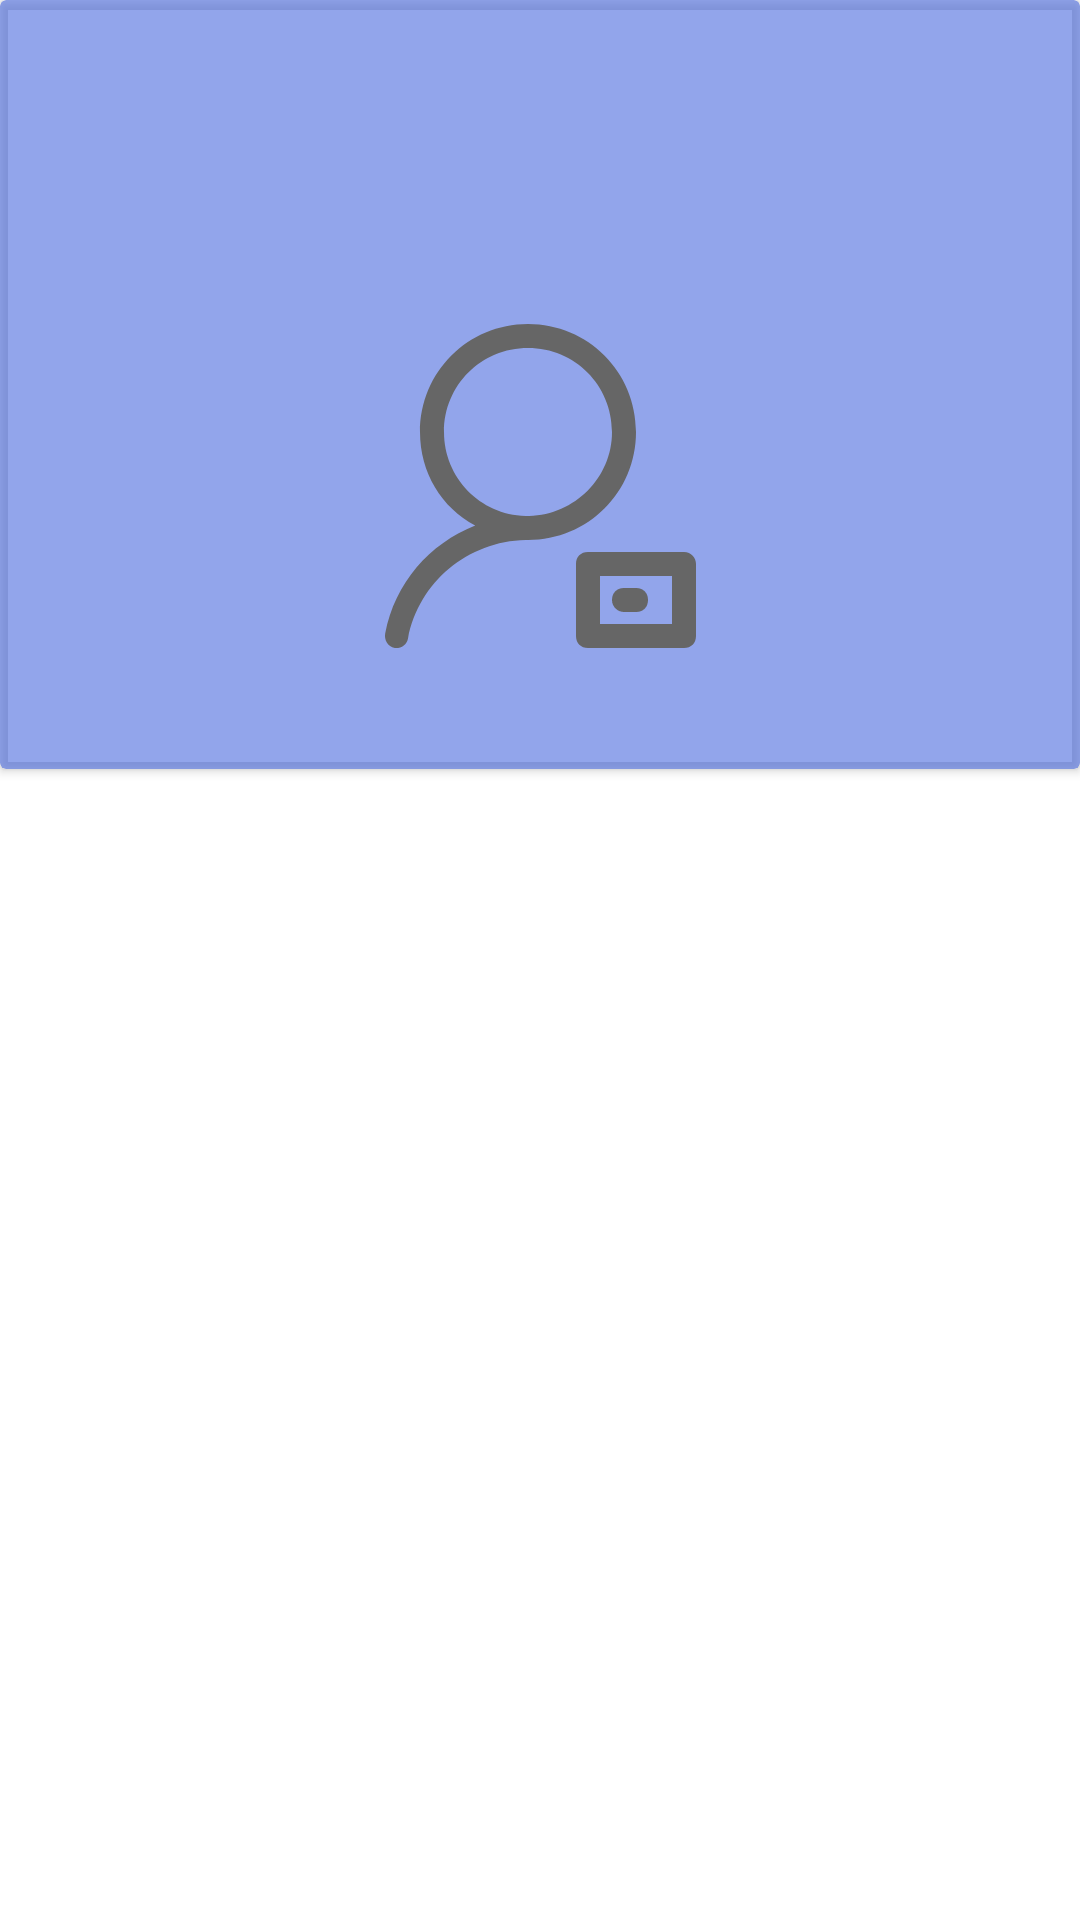

Where icons sit on this 1080px×1920px app screen, as (x1, y1, x2, y2):
user hero: (385, 324, 696, 648)
